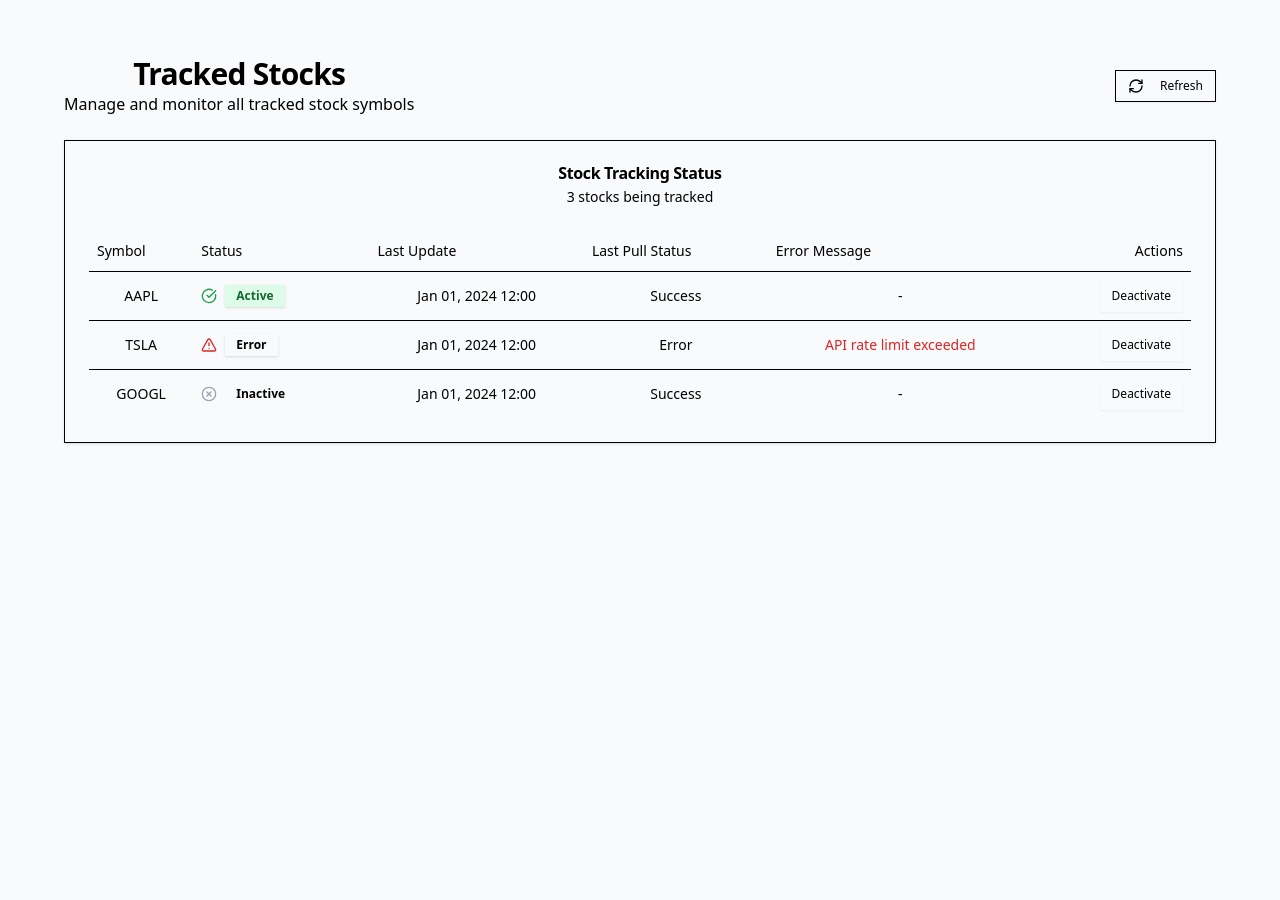
TrackedStocksPage › displays confirmation dialog for deactivation
The image size is (1280, 900).
Expected: the text "AAPL" is shown, [89,271,193,320]
// Click deactivate button
Click the button "Deactivate" in the row of "AAPL" at (1141, 296), box [1100,280,1183,312]
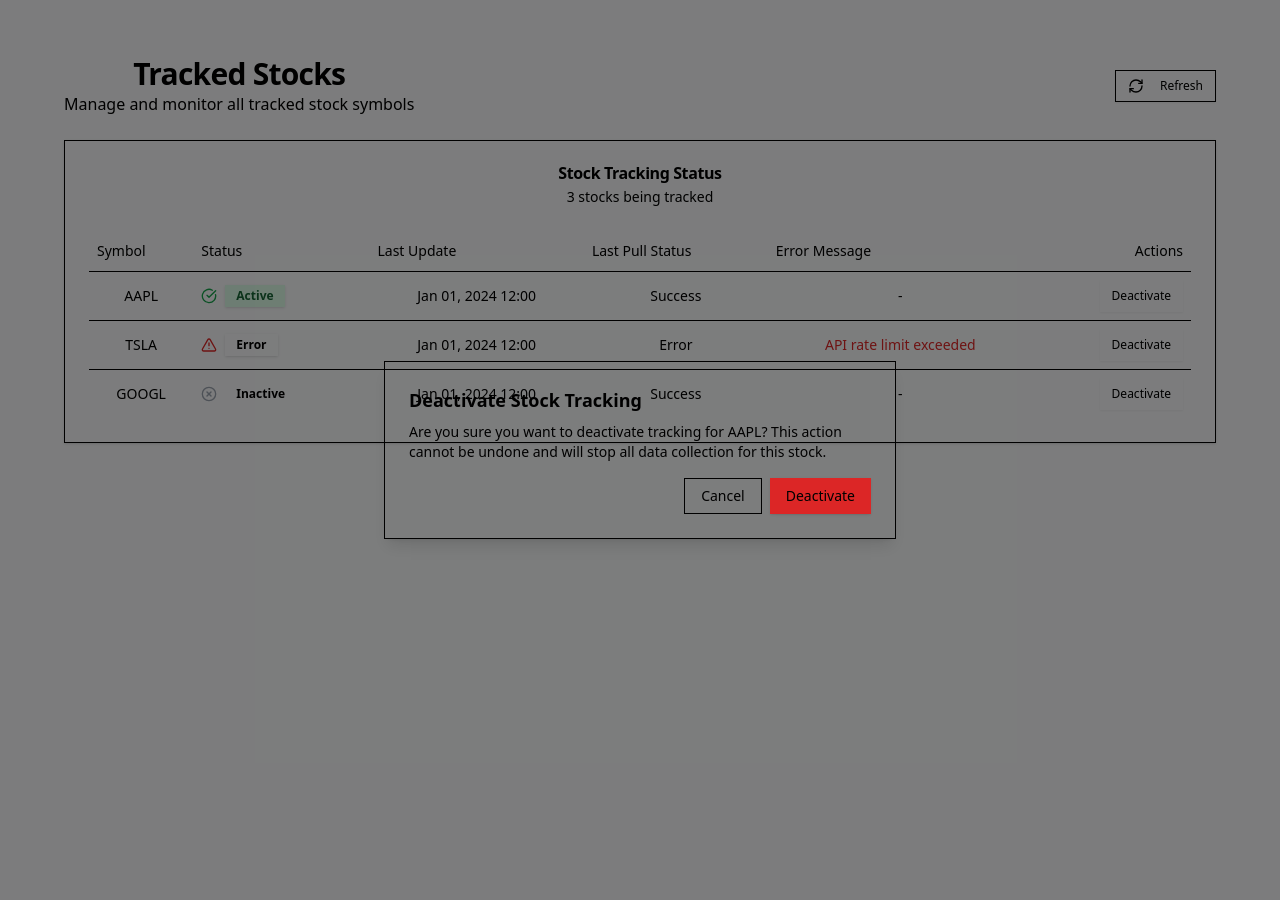
Now the heading "Deactivate Stock Tracking" is shown, box [409,388,642,412]
Now the text "Are you sure you want to deactivate tracking for AAPL" is shown, box [409,422,871,462]
